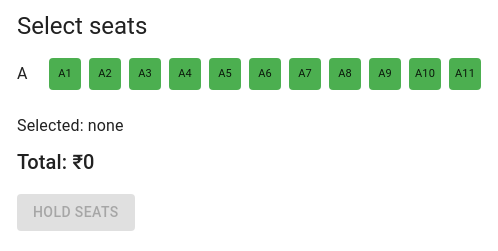
Test case: SeatMapPage seat selection logic › selects an available seat, updates the total, and toggles it off on a second click
The image size is (498, 251).
Click the text "A1" at [65, 74], box [49,58,81,90]
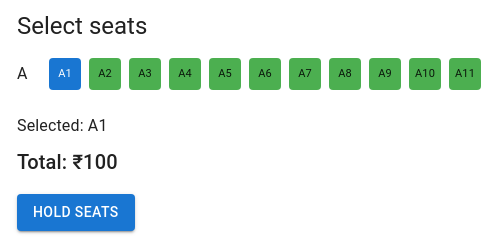
Check: the text "Selected: A1" is shown, box [17,116,108,135]
Check: the heading "Total: ₹100" is shown, box [17,150,118,174]
Click the text "A1" at [65, 74], box [49,58,81,90]
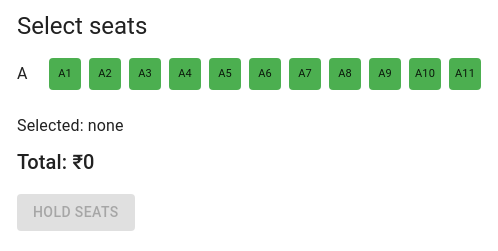
Check: the text "Selected: none" is shown, box [17,116,124,135]
Check: the heading "Total: ₹0" is shown, box [17,150,95,174]
